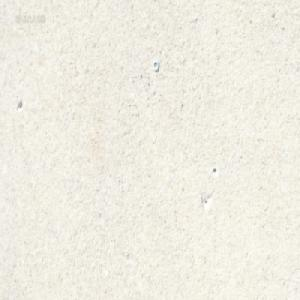Washer: (152, 59, 158, 71)
